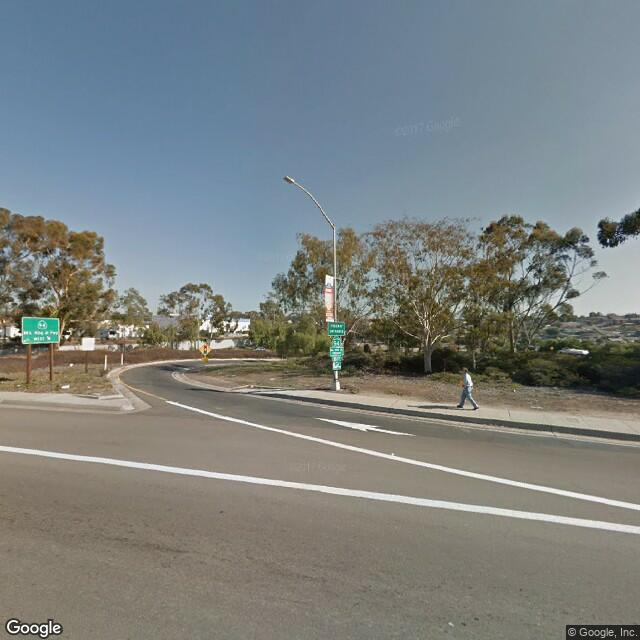litter: (57, 383, 71, 388)
